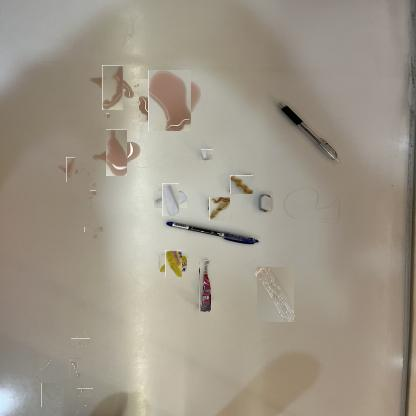dirty: (256, 266, 294, 322), (158, 187, 183, 212), (199, 260, 211, 312), (208, 198, 231, 221), (162, 252, 184, 275), (230, 175, 253, 194), (202, 149, 213, 161)
liquid: (144, 74, 196, 127), (99, 136, 134, 170), (96, 71, 129, 104), (41, 384, 63, 407), (62, 161, 79, 178), (69, 358, 81, 378), (38, 358, 52, 372), (74, 335, 87, 349), (88, 223, 100, 236), (78, 388, 93, 397), (88, 198, 92, 208), (90, 190, 96, 195), (105, 113, 110, 118), (91, 182, 95, 187), (85, 404, 88, 406), (76, 407, 78, 410), (94, 407, 96, 409)
